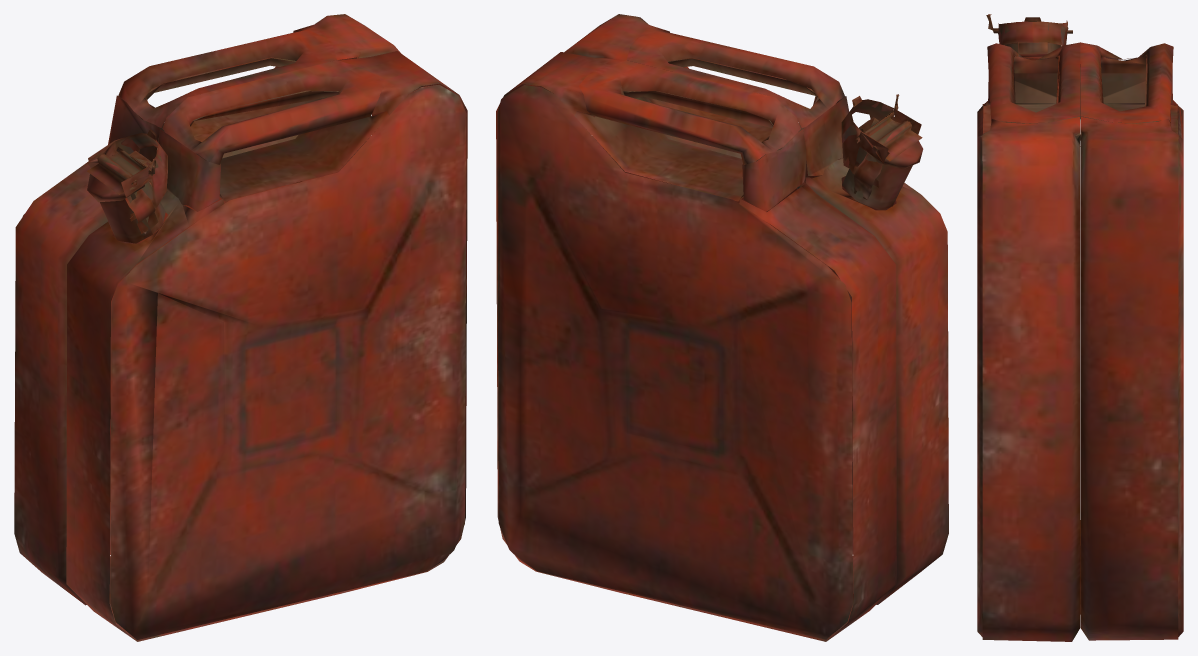
Rendered from metal_jerrycan.glb.
3 renders of one model, left to right at view 1: azimuth 30°, elevation 25°; view 2: azimuth 150°, elevation 25°; view 3: azimuth 270°, elevation 25°, orthographic. The views are drawn at different scales.
Parts seen in each view (by area): view 1: metal_jerrycan; view 2: metal_jerrycan; view 3: metal_jerrycan.
Boxes of the visible parts, x1,y1,x2,y2 form: metal_jerrycan: (14,14,467,641); metal_jerrycan: (496,14,948,641); metal_jerrycan: (977,14,1183,641).
Bounding box in the file's own units: 0.3483 × 0.4534 × 0.1694.
Materials: 1 (1 with a texture image).
